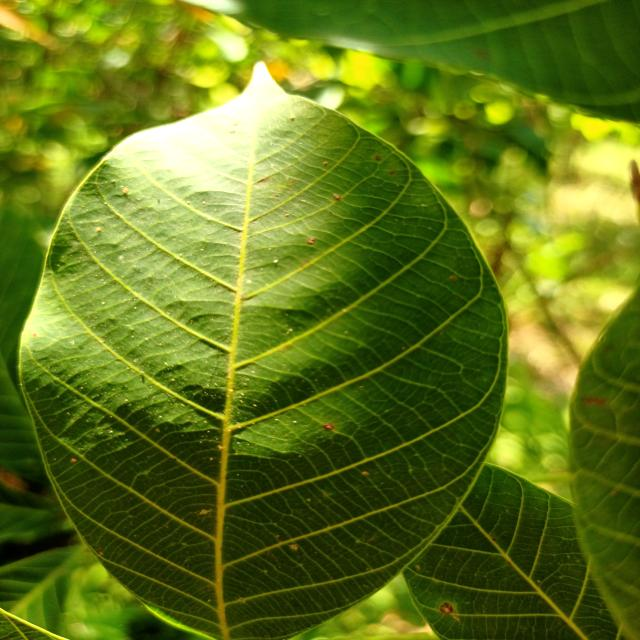Colletotrichum: (440, 603, 453, 614), (323, 424, 334, 431)
